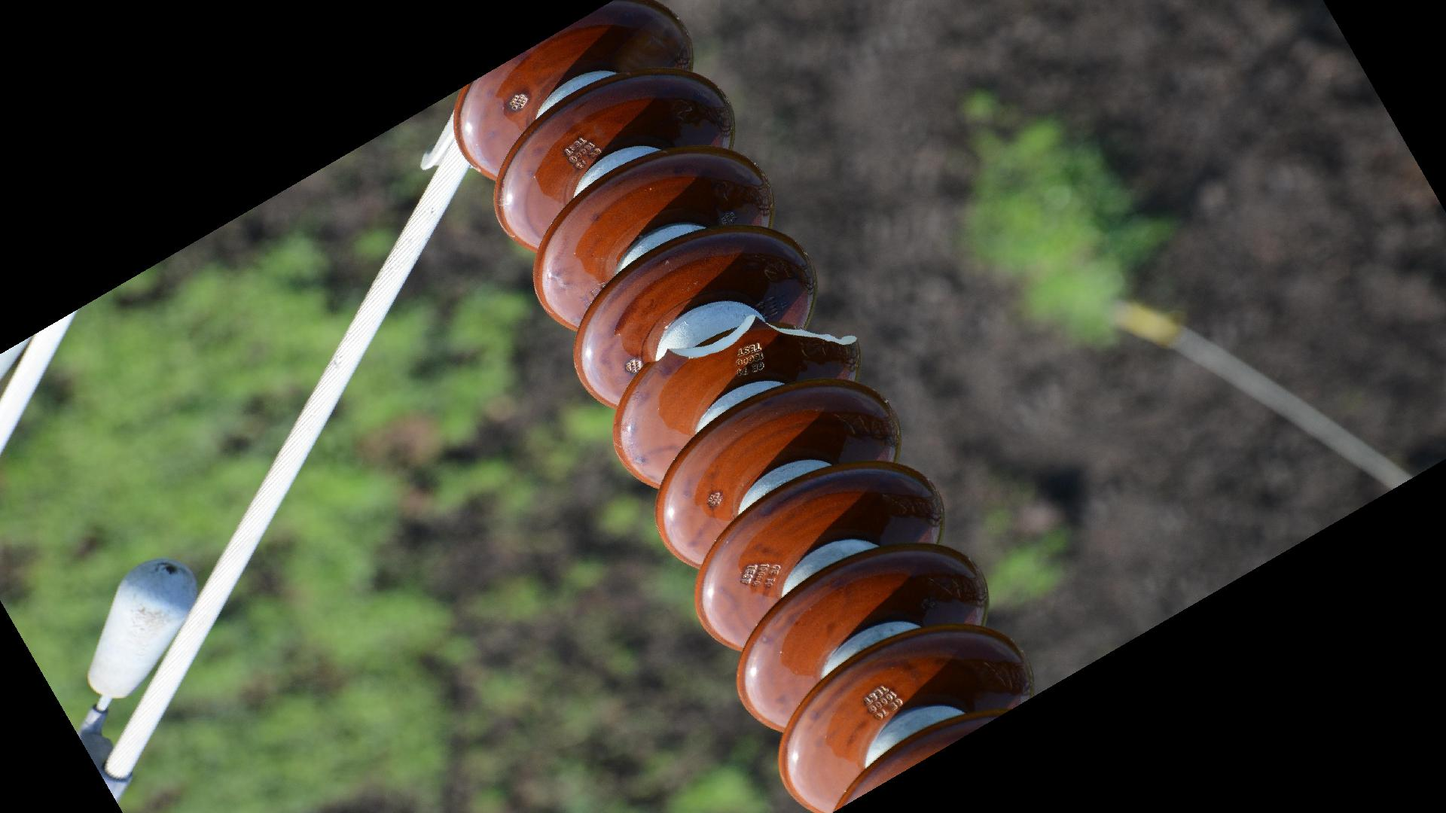insulator: (446, 1, 1040, 813)
insulator_breakage: (655, 300, 866, 375)
